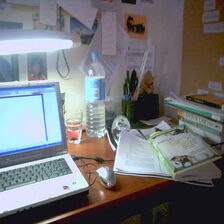laptop: (1, 76, 98, 224)
